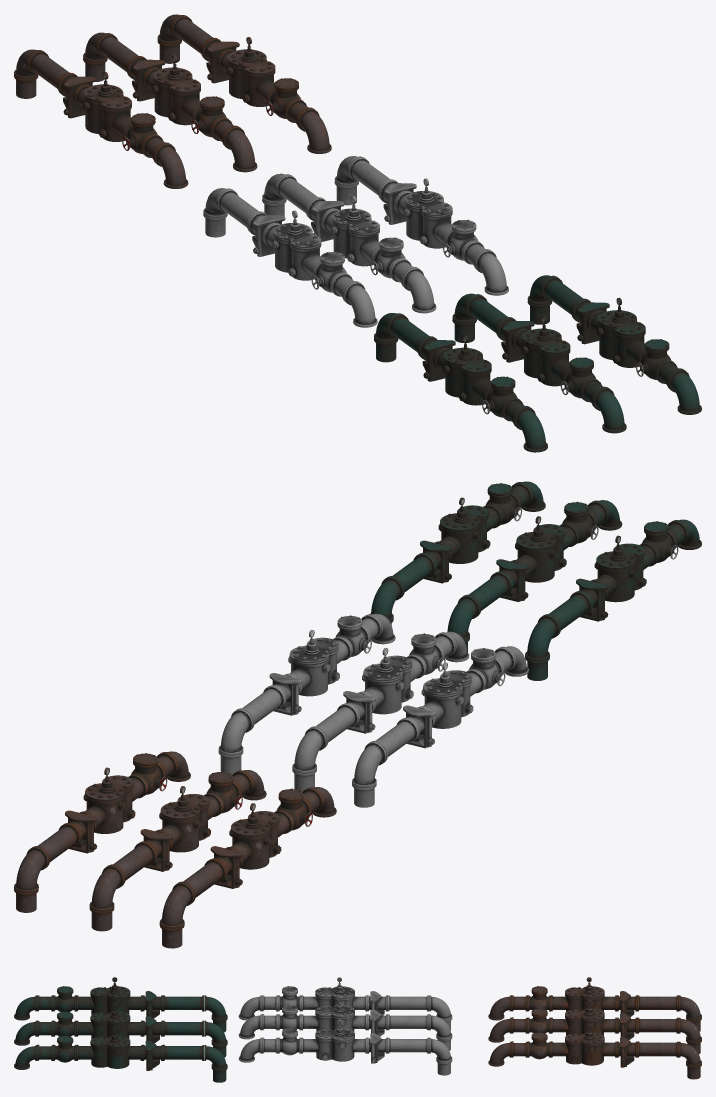
The model's file is pipe_metalic_metal_-38_mb_-_3part.glb.
3 views of the same model, one above another, from view 1: azimuth 30°, elevation 25°; view 2: azimuth 150°, elevation 25°; view 3: azimuth 270°, elevation 25° (orthographic). The views are drawn at different scales.
Visible parts, largest first — view 1: 01_3_01_0, 02_4_02_0, 03_3_03_0, 03_2_03_0, 03_1_03_0, 01_1_01_0, 02_1_02_0, 01_2_01_0, 02_2_02_0; view 2: 01_2_01_0, 02_4_02_0, 01_3_01_0, 01_1_01_0, 03_3_03_0, 02_1_02_0, 02_2_02_0, 03_2_03_0, 03_1_03_0; view 3: 01_1_01_0, 02_1_02_0, 03_1_03_0, 03_3_03_0, 03_2_03_0, 01_2_01_0, 02_2_02_0, 01_3_01_0, 02_4_02_0.
Part boxes in pixels (<box>): 01_3_01_0: <box>14,49,188,188</box>; 02_4_02_0: <box>203,188,377,327</box>; 03_3_03_0: <box>374,313,547,452</box>; 03_2_03_0: <box>452,293,626,433</box>; 03_1_03_0: <box>527,275,701,414</box>; 01_1_01_0: <box>157,14,331,153</box>; 02_1_02_0: <box>334,156,508,295</box>; 01_2_01_0: <box>83,32,257,172</box>; 02_2_02_0: <box>262,173,436,313</box>; 01_2_01_0: <box>89,770,266,931</box>; 02_4_02_0: <box>352,646,528,807</box>; 01_3_01_0: <box>159,787,336,948</box>; 01_1_01_0: <box>14,751,190,912</box>; 03_3_03_0: <box>525,519,701,680</box>; 02_1_02_0: <box>218,613,395,774</box>; 02_2_02_0: <box>292,631,469,791</box>; 03_2_03_0: <box>447,500,622,652</box>; 03_1_03_0: <box>370,481,545,624</box>; 01_1_01_0: <box>488,1023,701,1079</box>; 02_1_02_0: <box>238,1019,452,1075</box>; 03_1_03_0: <box>14,1026,227,1082</box>; 03_3_03_0: <box>14,977,227,1032</box>; 03_2_03_0: <box>14,1002,227,1057</box>; 01_2_01_0: <box>488,999,701,1054</box>; 02_2_02_0: <box>238,996,452,1050</box>; 01_3_01_0: <box>488,977,701,1031</box>; 02_4_02_0: <box>238,977,452,1030</box>.
Size of the model in its own units: 4.37 by 1.75 by 20.56.
3 materials, 3 textured.
